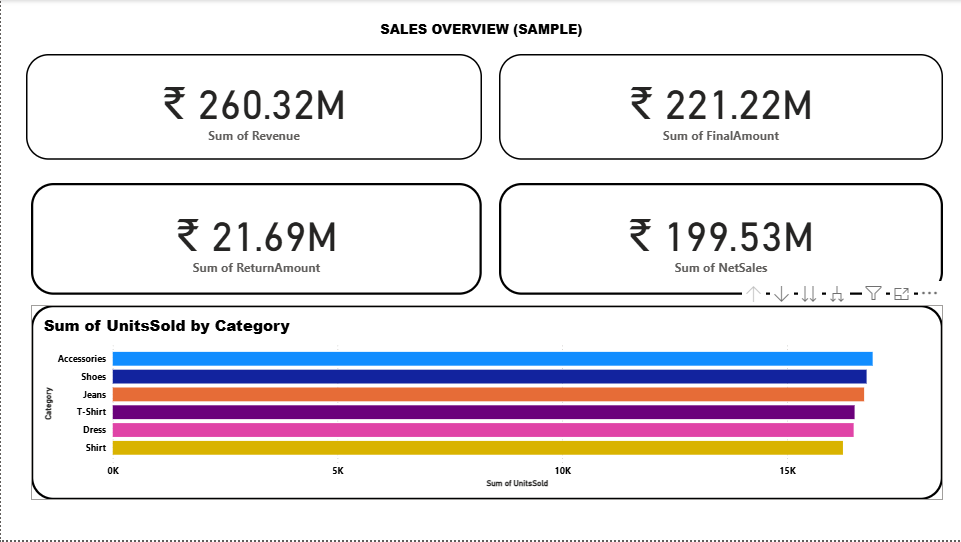

What the dashboard file says about the page in this screenshot:
{"tool":"powerbi","page":{"name":"sales overview","canvas":[1280,720],"ordinal":0},"visuals":[{"type":"card","fields":{"Values":["Sum(clearnowsales.Revenue)"]},"box":[33.3,72,608,141.3],"z":0},{"type":"card","fields":{"Values":["Sum(clearnowsales.FinalAmount)"]},"box":[664,72,592,141.3],"z":1000},{"type":"card","fields":{"Values":["Sum(clearnowsales.ReturnAmount)"]},"box":[40,244,601.3,149.3],"z":2000},{"type":"card","fields":{"Values":["Sum(clearnowsales.NetSales)"]},"box":[664,244,592,149.3],"z":3000},{"type":"clusteredBarChart","fields":{"Category":["clearnowsales.Category","clearnowsales.StoreRegion"],"Y":["Sum(clearnowsales.UnitsSold)"]},"box":[40,406.7,1215.8,259.7],"z":4000},{"type":"shape","box":[490.9,5.7,299.7,65.6],"z":5000}]}

Visuals, with their boxes in screenshot pixels (x1, y1, x2, y2), scaled from the page's 1280x720 canvas onto the 961x542 screenshot:
card - Sum(clearnowsales.Revenue): bbox(25, 54, 481, 161)
card - Sum(clearnowsales.FinalAmount): bbox(499, 54, 943, 161)
card - Sum(clearnowsales.ReturnAmount): bbox(30, 184, 481, 296)
card - Sum(clearnowsales.NetSales): bbox(499, 184, 943, 296)
clusteredBarChart - clearnowsales.Category x clearnowsales.StoreRegion: bbox(30, 306, 943, 502)
shape: bbox(369, 4, 594, 54)
